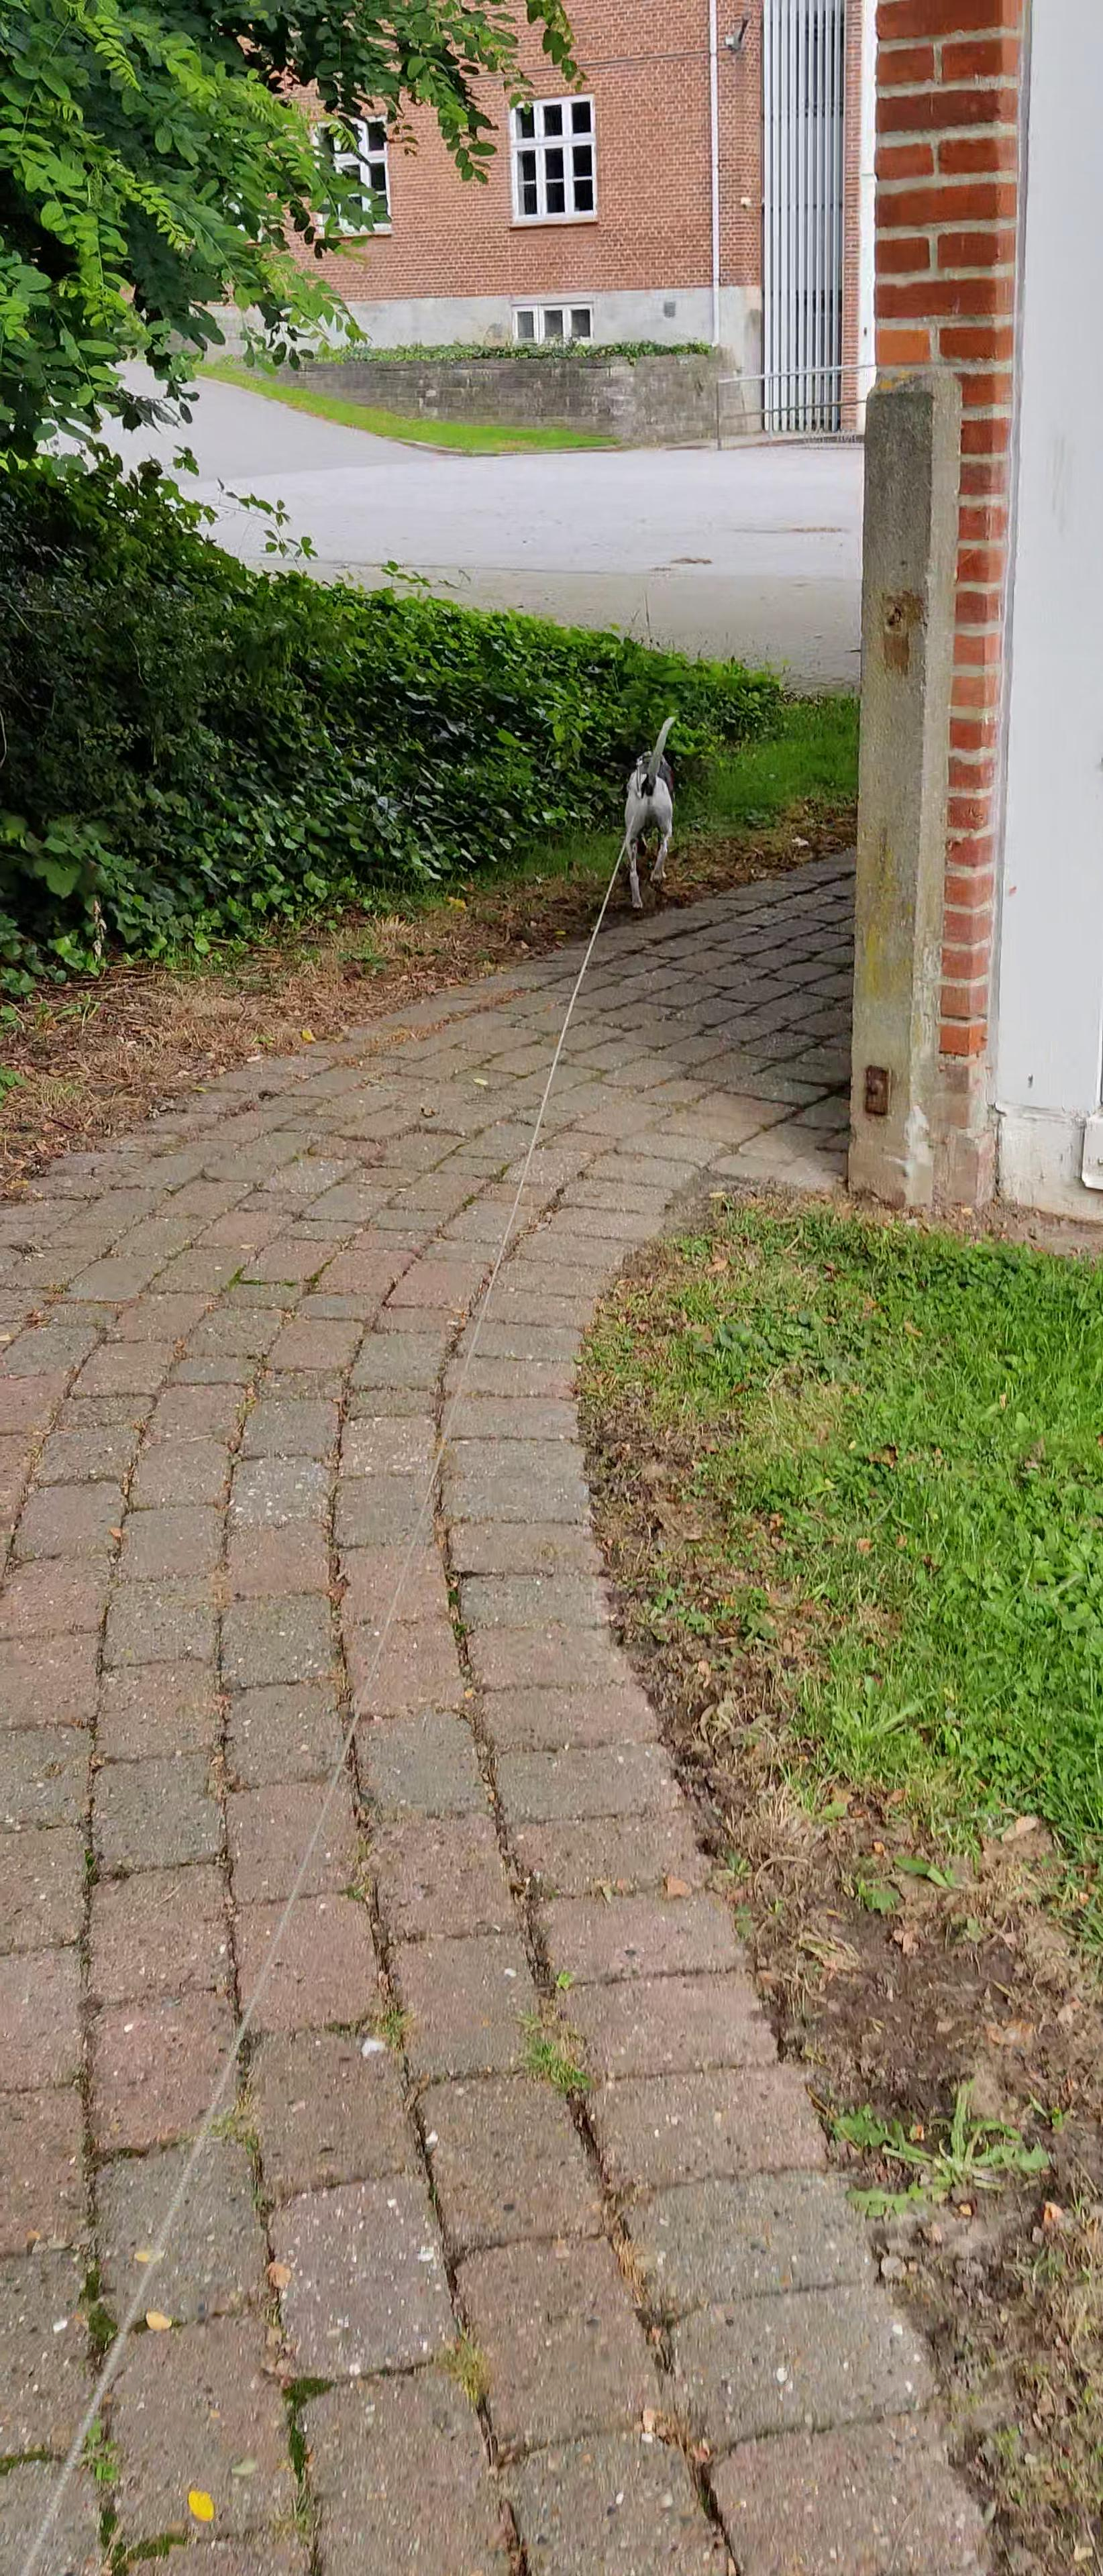Dog: (605, 706, 690, 917)
